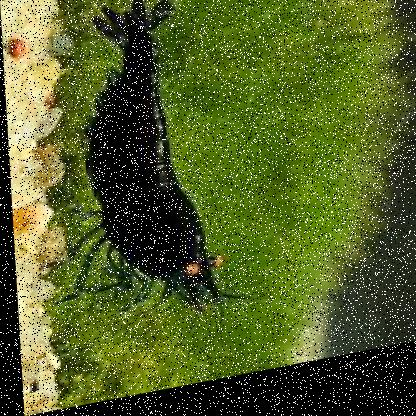shrimp: (58, 0, 256, 347)
